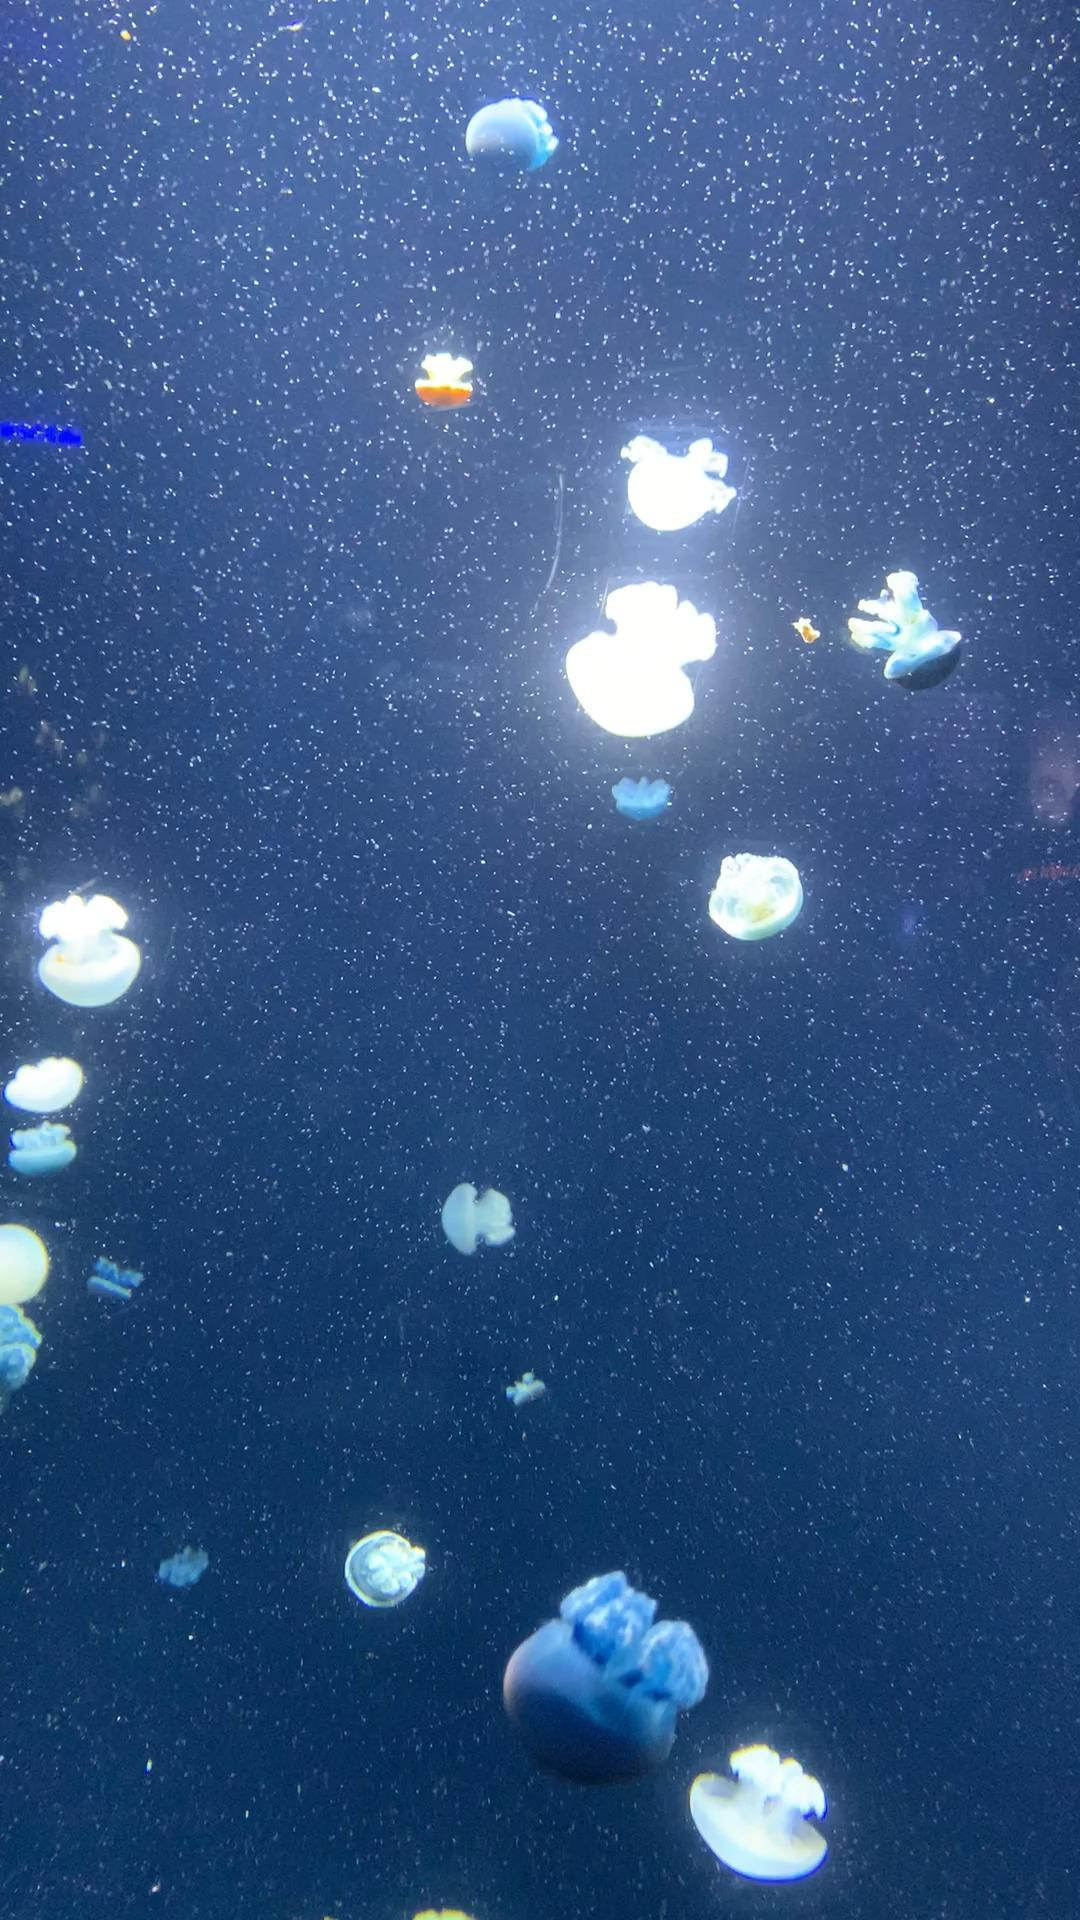jellyfish: (498, 1575, 704, 1793), (559, 582, 716, 746), (684, 1749, 837, 1883), (849, 567, 968, 699), (40, 898, 141, 1007), (624, 436, 735, 535), (703, 851, 808, 943), (343, 1528, 429, 1619), (465, 104, 559, 179), (439, 1178, 510, 1258), (7, 1058, 86, 1118), (0, 1221, 51, 1308), (413, 353, 477, 414), (9, 1127, 80, 1182), (612, 785, 675, 818), (86, 1273, 138, 1308), (160, 1553, 204, 1590), (513, 1377, 549, 1408)
